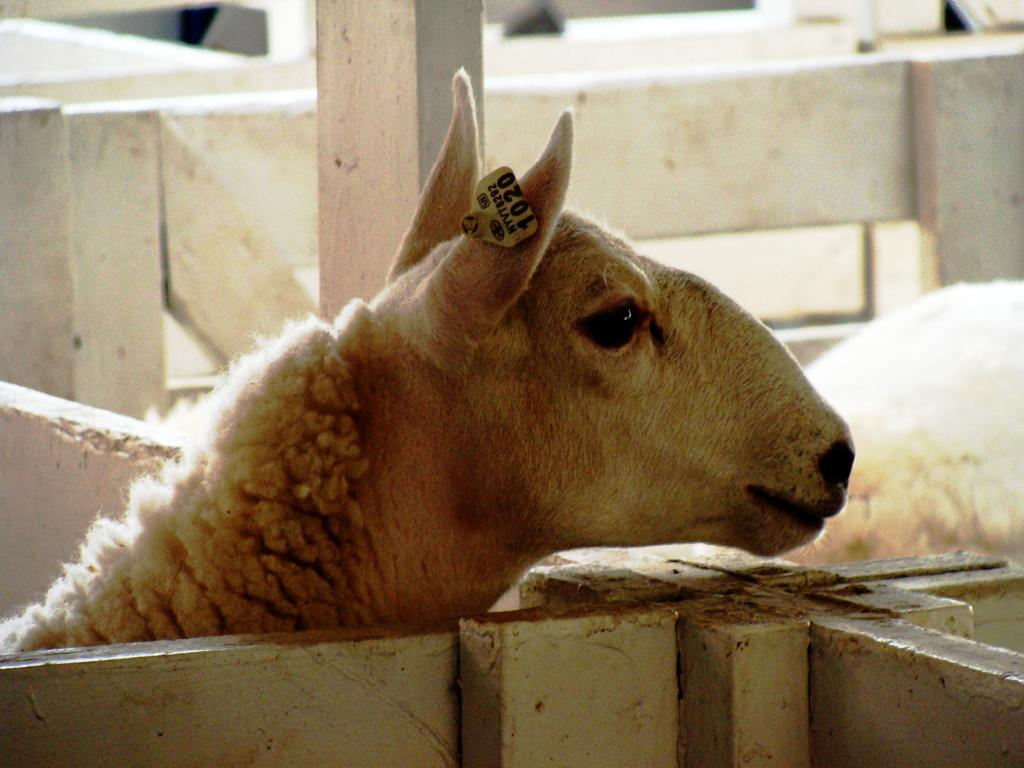Sheep: (2, 78, 863, 662), (805, 278, 1023, 584)
